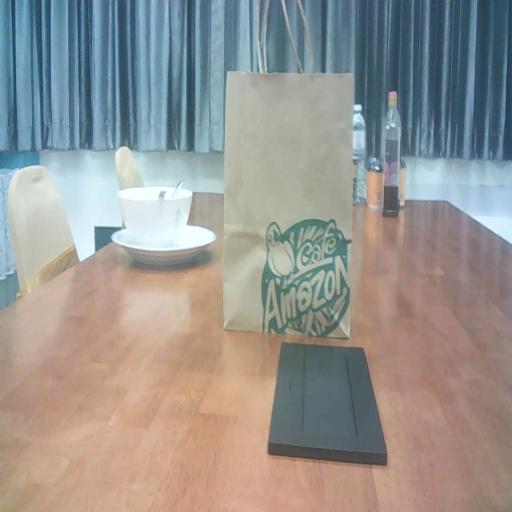bag: (225, 54, 353, 345)
